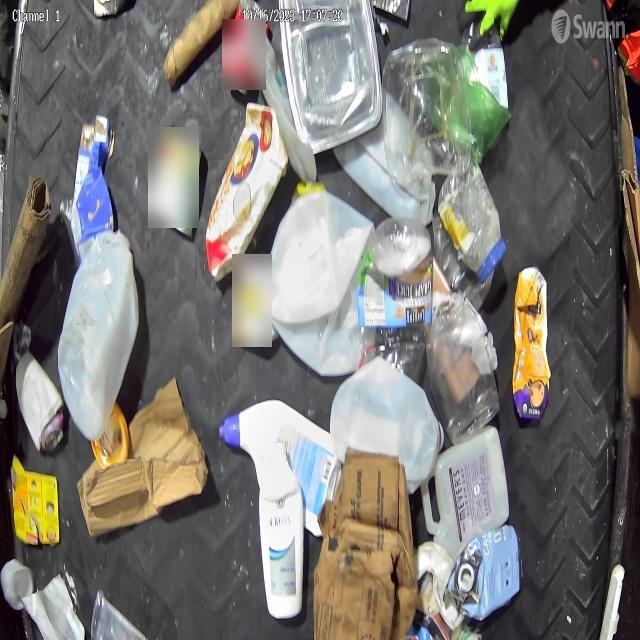milk_jug: (264, 183, 364, 364), (57, 225, 138, 428), (333, 370, 446, 464)
non_white_jug: (450, 524, 524, 620)
